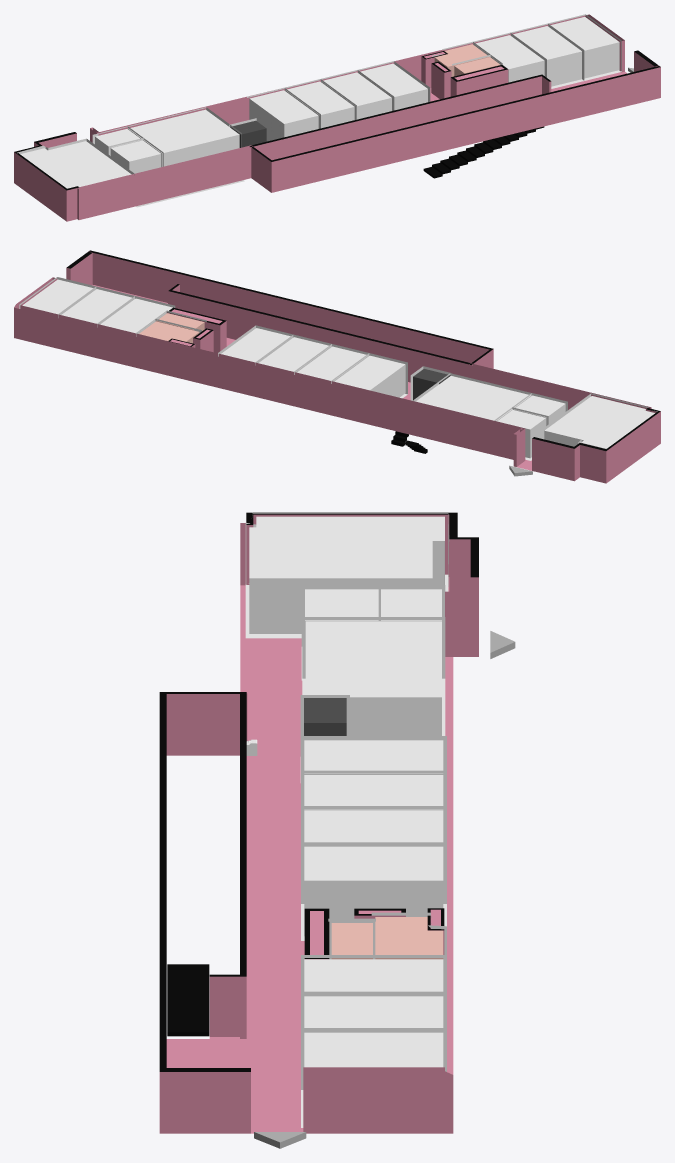
The picture shows the model from 3 angles, top to bottom: view 1: azimuth 30°, elevation 25°; view 2: azimuth 150°, elevation 25°; view 3: azimuth 270°, elevation 25°; orthographic projection. The views are drawn at different scales.
Parts seen in each view (by area): view 1: object, room_2_2_9, room_2_2_8, room_2_2_1, room_2_2_7, room_2_2_6, room_2_2_3, room_2_2_5, room_2_2_4, room_2_2_2, 階段_2_2_1, room_2_2_10 (+7 smaller); view 2: object, room_2_2_8, room_2_2_9, room_2_2_1, room_2_2_5, room_2_2_3, room_2_2_4, room_2_2_2, room_2_2_7, room_2_2_6, room_2_2_11, room_2_2_10 (+6 smaller); view 3: object, room_2_2_8, room_2_2_9, room_2_2_4, room_2_2_7, room_2_2_3, room_2_2_6, room_2_2_5, room_2_2_2, room_2_2_1, 階段_2_2_1, トイレ_2_2_1 (+10 smaller).
Boxes of the visible parts, x1,y1,x2,y2 form: object: [14, 14, 660, 221]; room_2_2_9: [128, 109, 239, 166]; room_2_2_8: [20, 141, 131, 188]; room_2_2_1: [249, 90, 318, 140]; room_2_2_7: [550, 17, 619, 78]; room_2_2_6: [513, 26, 581, 86]; room_2_2_3: [321, 72, 391, 119]; room_2_2_5: [474, 35, 544, 82]; room_2_2_4: [358, 63, 427, 110]; room_2_2_2: [285, 81, 354, 128]; 階段_2_2_1: [423, 126, 544, 178]; room_2_2_10: [111, 140, 161, 173]; object: [14, 250, 660, 483]; room_2_2_8: [544, 396, 654, 448]; room_2_2_9: [416, 376, 531, 421]; room_2_2_1: [334, 355, 405, 397]; room_2_2_5: [100, 298, 172, 333]; room_2_2_3: [258, 337, 330, 372]; room_2_2_4: [221, 328, 292, 362]; room_2_2_2: [297, 346, 368, 381]; room_2_2_7: [22, 279, 93, 314]; room_2_2_6: [61, 289, 131, 323]; room_2_2_11: [497, 410, 545, 458]; room_2_2_10: [513, 395, 565, 425]; object: [159, 512, 478, 1133]; room_2_2_8: [249, 516, 444, 633]; room_2_2_9: [305, 621, 441, 735]; room_2_2_4: [304, 846, 443, 935]; room_2_2_7: [304, 1032, 443, 1067]; room_2_2_3: [304, 810, 443, 846]; room_2_2_6: [304, 996, 443, 1032]; room_2_2_5: [304, 959, 443, 991]; room_2_2_2: [304, 775, 443, 810]; room_2_2_1: [304, 740, 443, 774]; 階段_2_2_1: [167, 964, 209, 1036]; トイレ_2_2_1: [375, 917, 443, 959].
Bounding box in the file's own units: 3.61 × 0.3623 × 0.9488.
